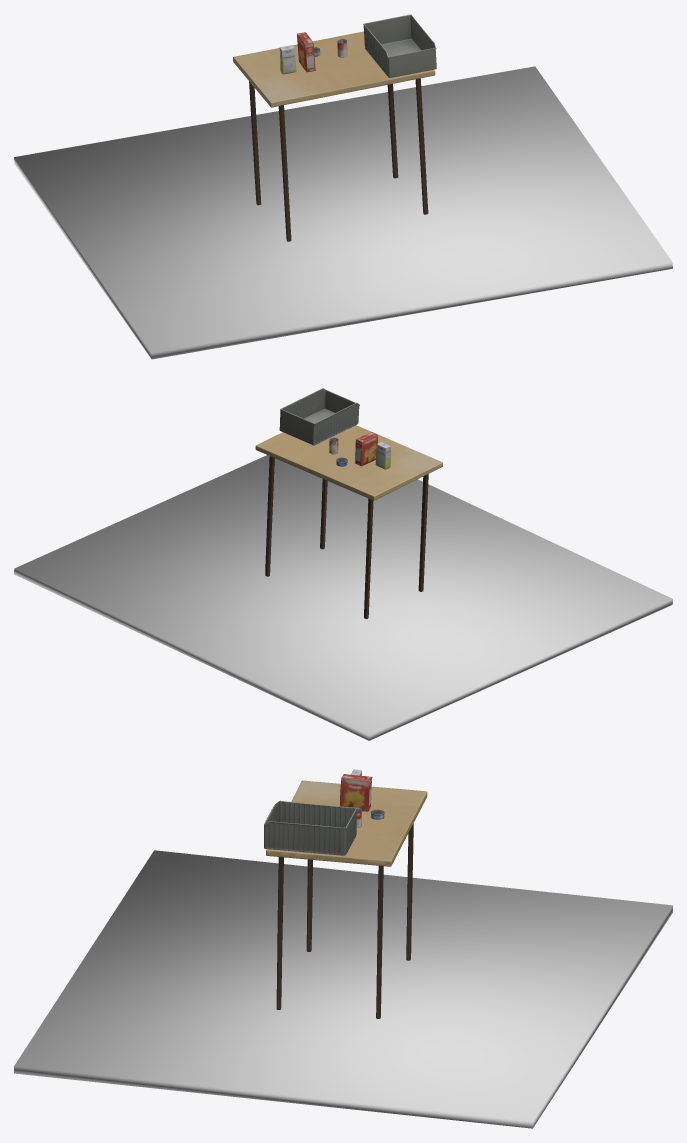
Rendered from rest3d.glb.
The picture shows the model from 3 angles, top to bottom: view 1: azimuth 30°, elevation 25°; view 2: azimuth 150°, elevation 25°; view 3: azimuth 270°, elevation 25°; orthographic projection. The views are drawn at different scales.
Visible parts, largest first — view 1: ground, World; view 2: ground, World; view 3: ground, World.
Boxes of the visible parts, x1,y1,x2,y2 form: ground: (14, 66, 672, 359); World: (233, 14, 436, 241); ground: (14, 455, 672, 740); World: (255, 388, 442, 618); ground: (14, 850, 672, 1128); World: (264, 769, 427, 1018).
Size of the model in its own units: 4.4 by 1.5 by 4.12.
